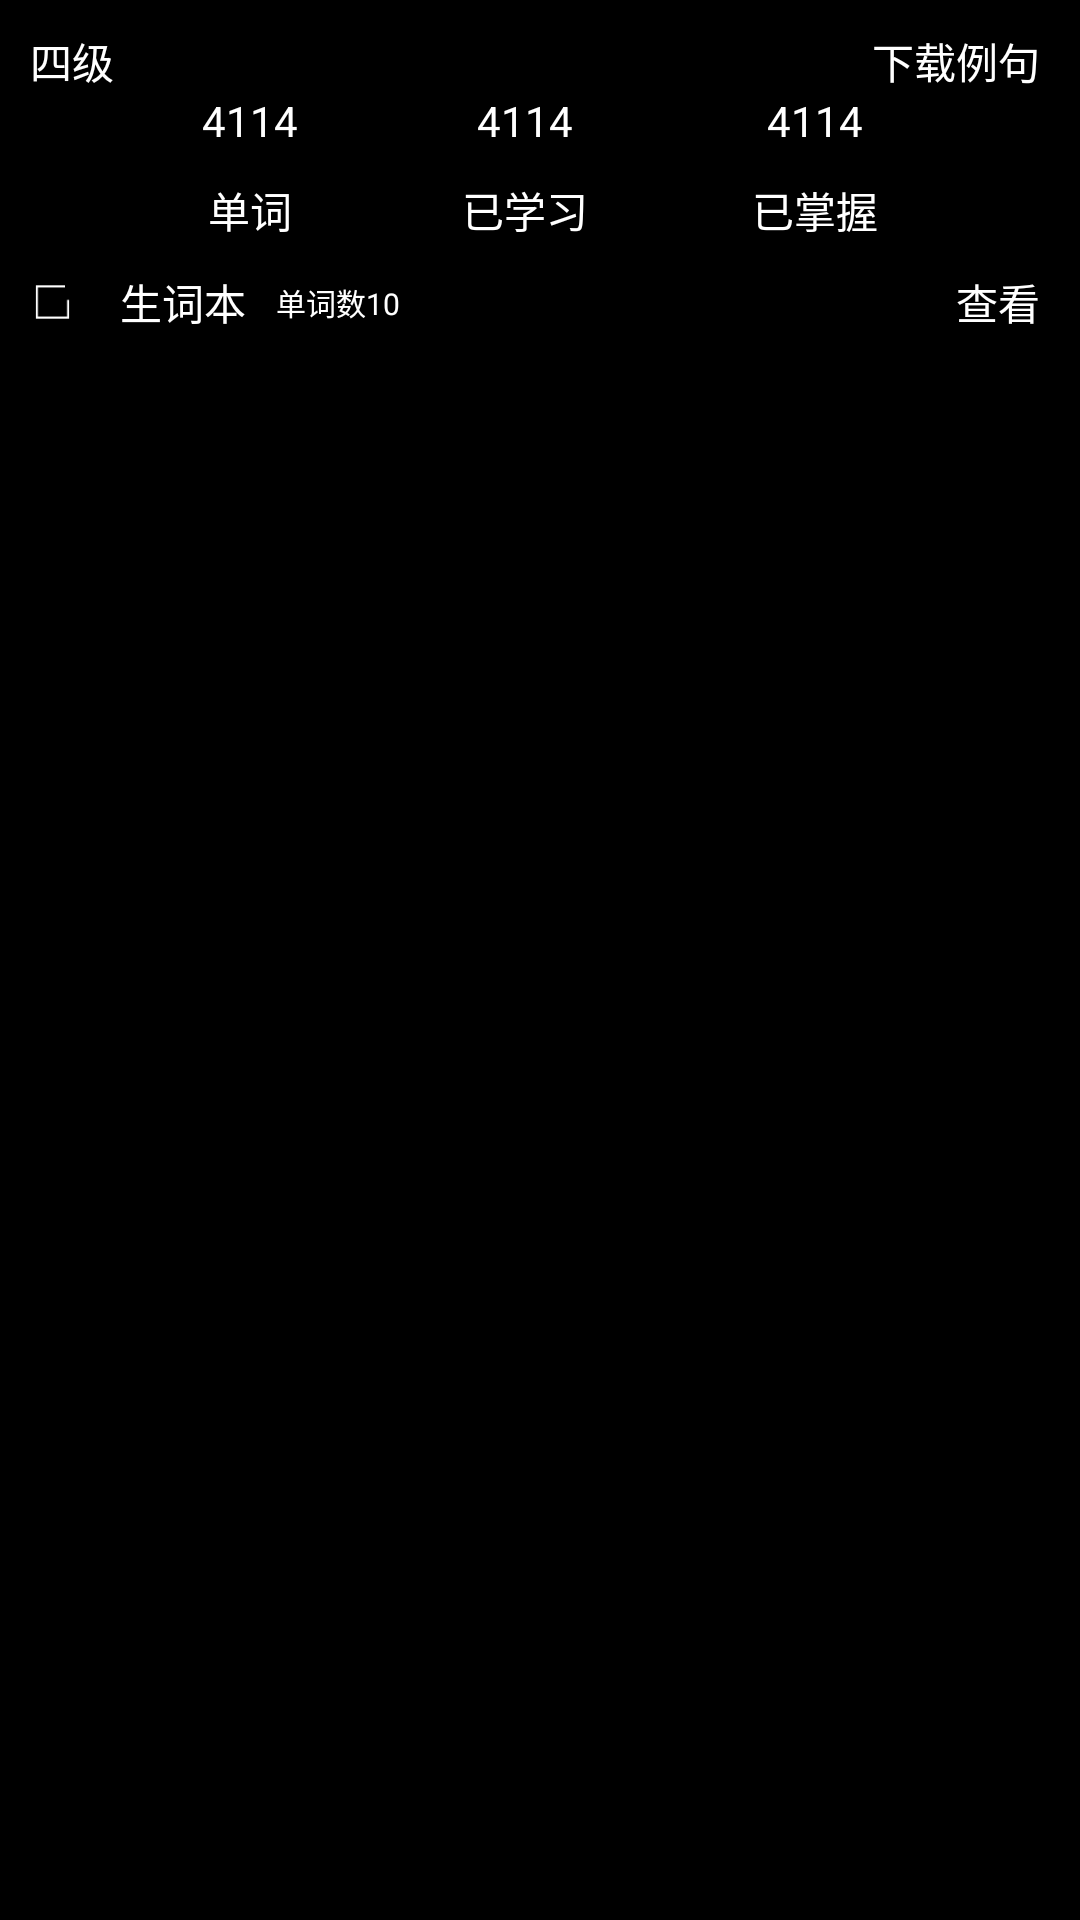

Locate icon controls on the screen. Image size 1080 x 1920, boxes as (x1=x1, y1=y1, x2=x2, y2=y2).
uncheck: (x1=35, y1=285, x2=70, y2=319)
